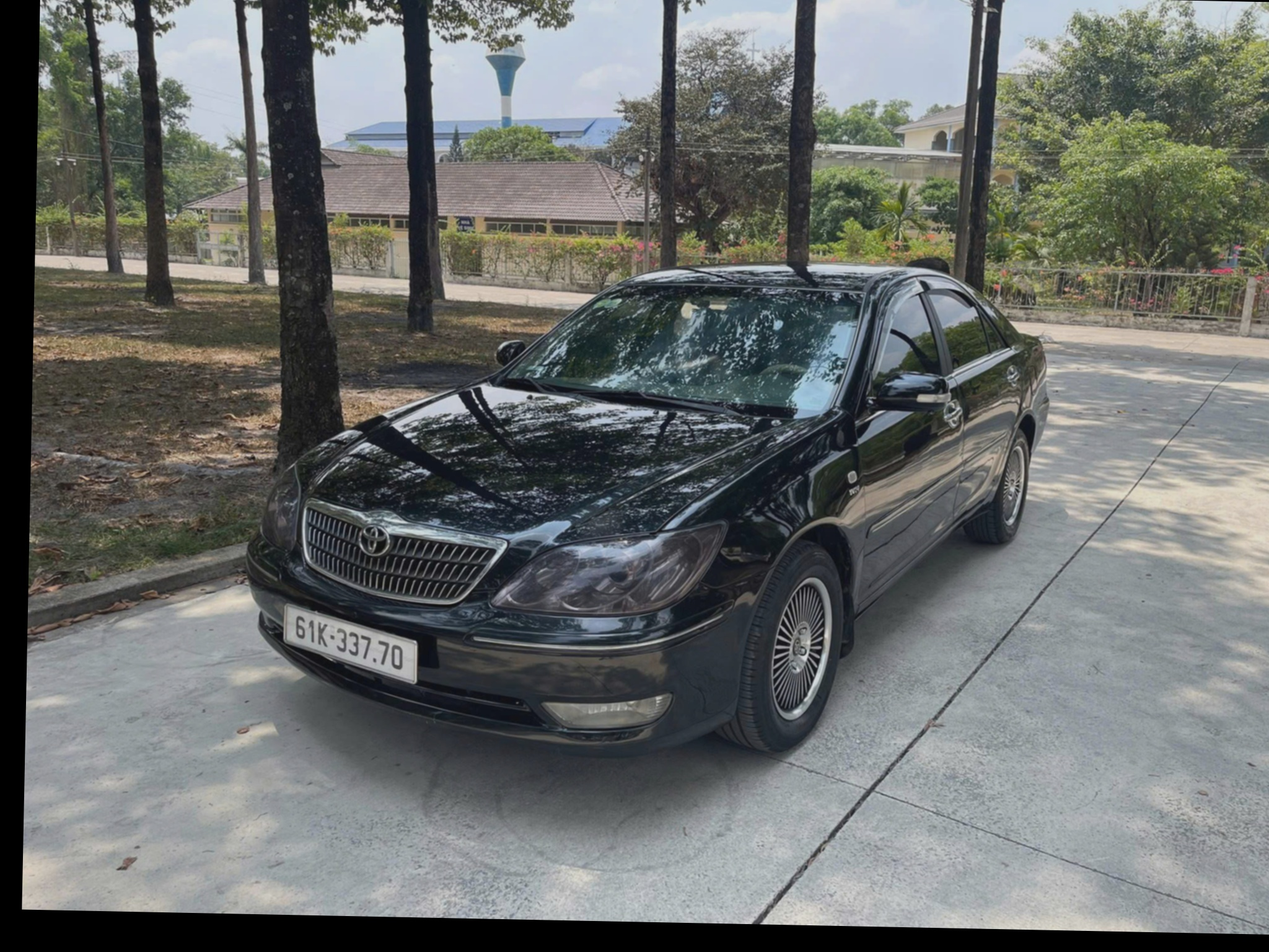Bien-so: (282, 604, 420, 680)
